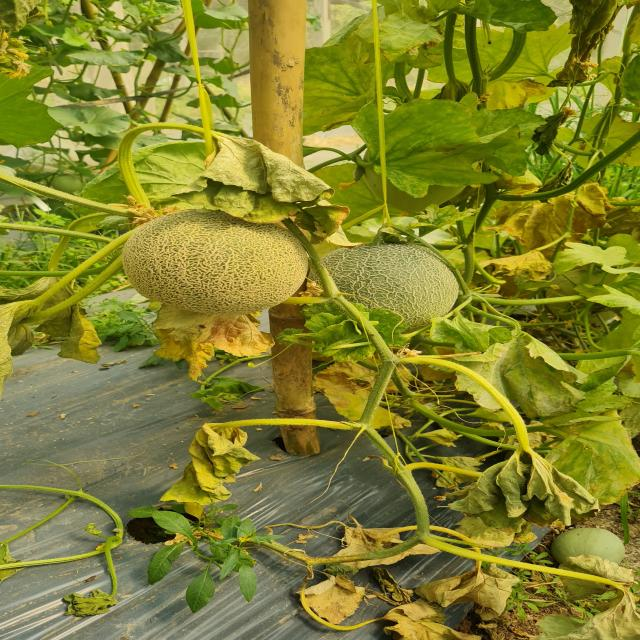melon: (122, 210, 309, 315), (322, 244, 458, 331)
